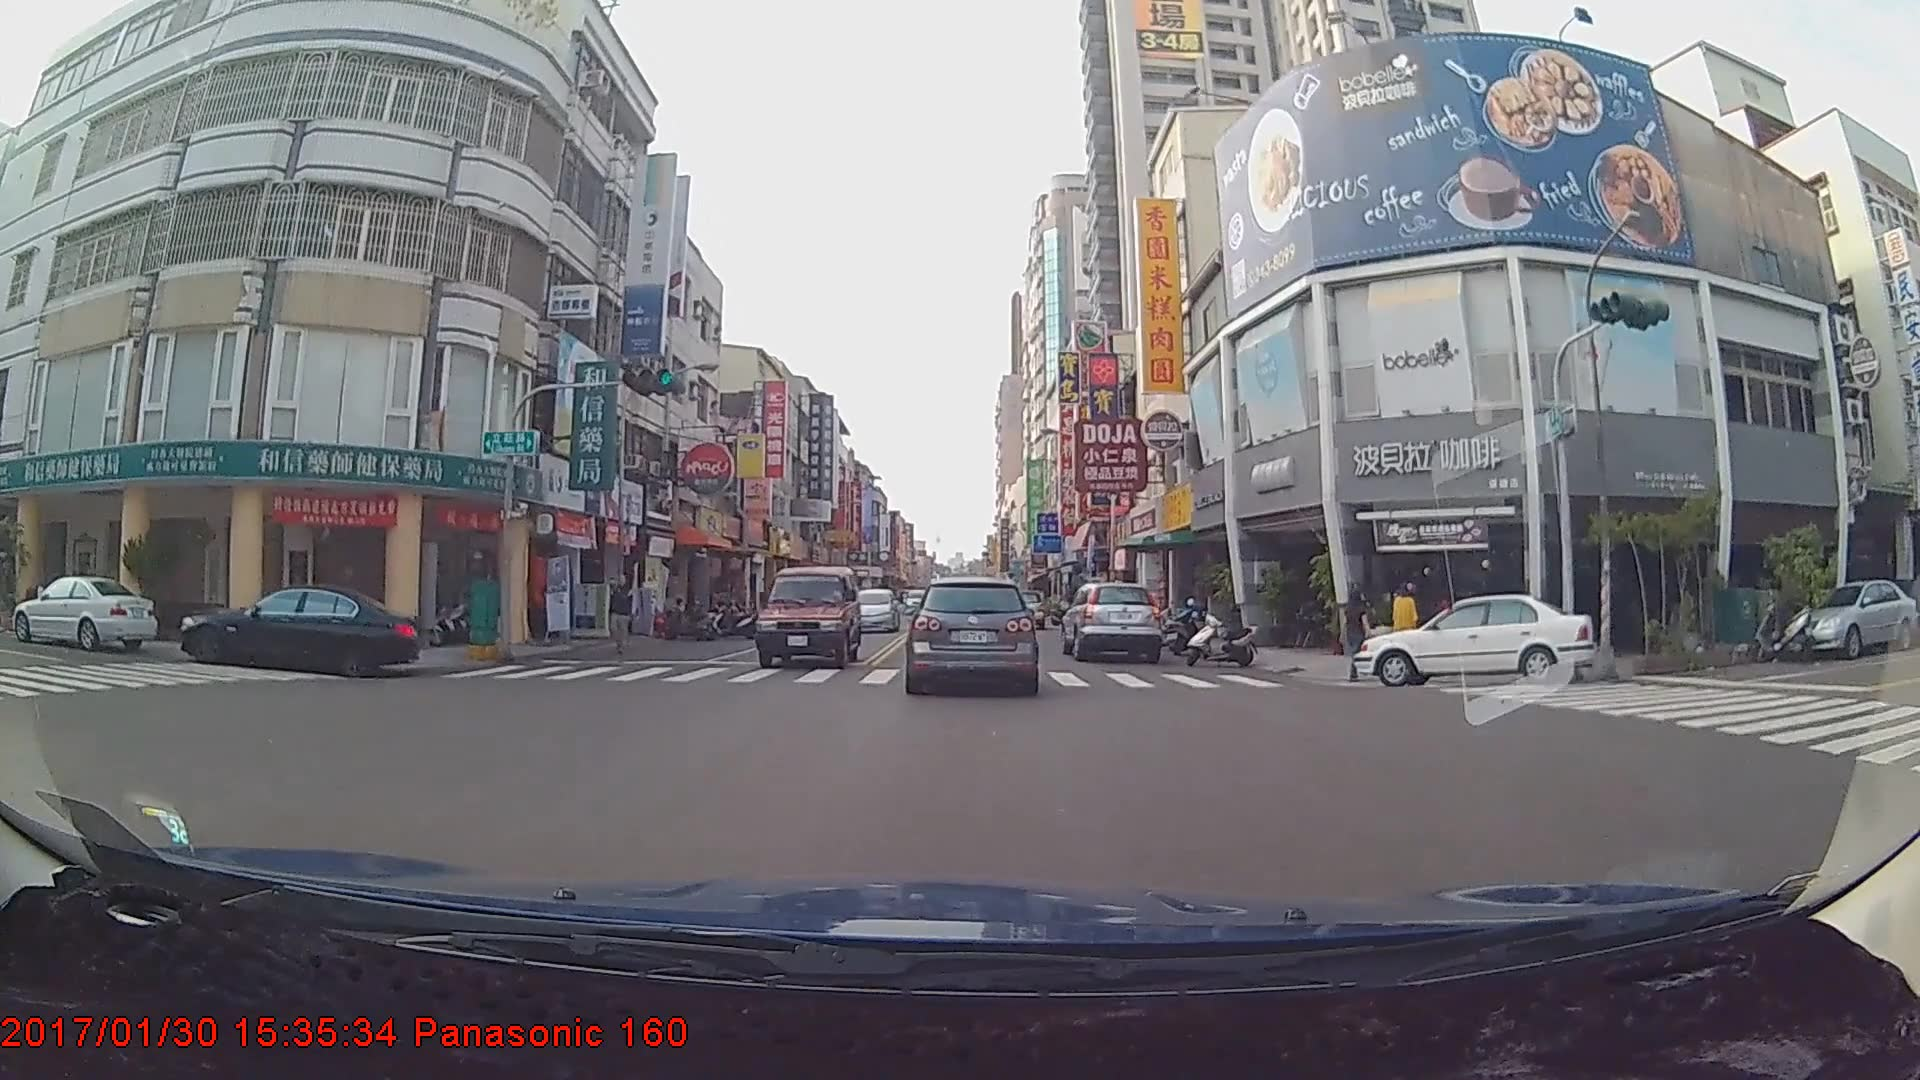pedestrian: (1343, 593, 1376, 686), (1392, 584, 1425, 668), (608, 574, 637, 653)
vehicle: (177, 579, 419, 676), (1350, 593, 1597, 687), (910, 577, 1035, 691), (8, 574, 157, 654), (752, 563, 862, 669), (1783, 579, 1919, 660), (1059, 578, 1162, 664), (847, 587, 901, 632)
